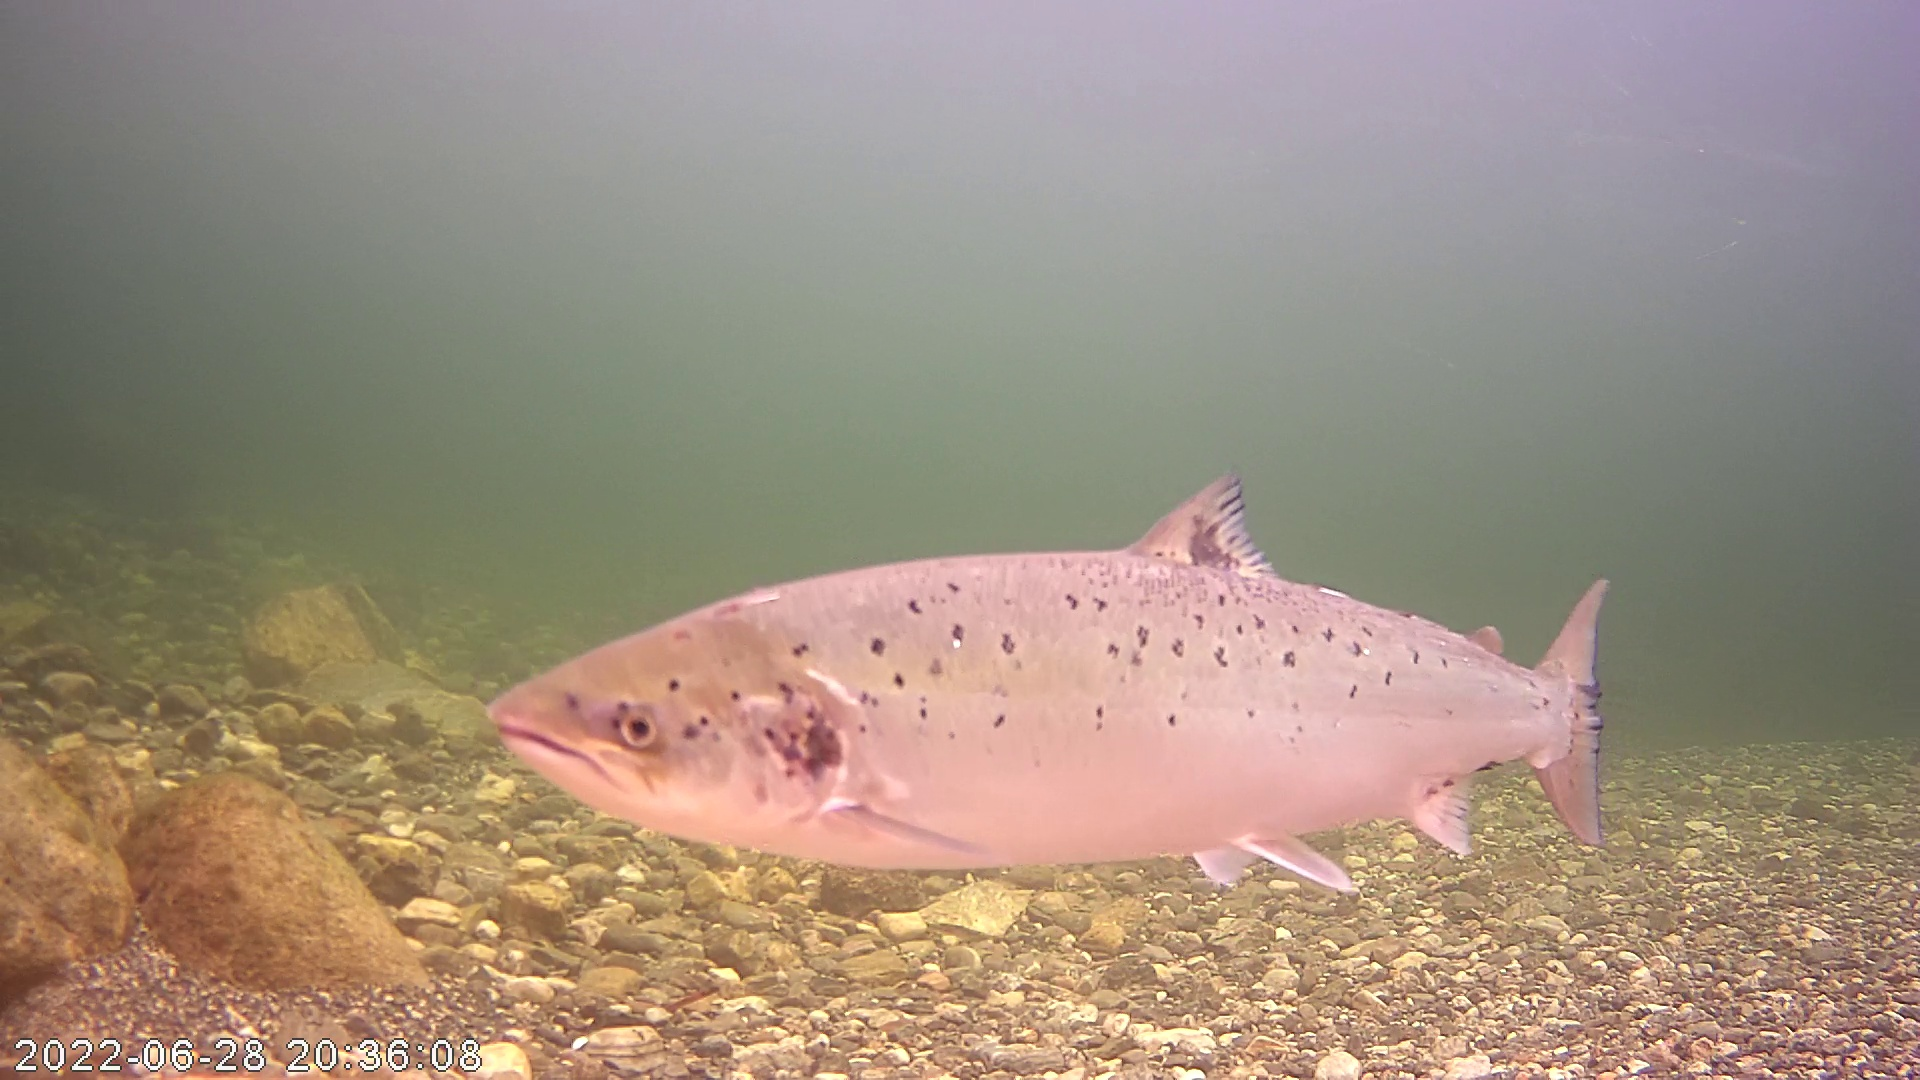salmon: (464, 429, 1581, 882)
